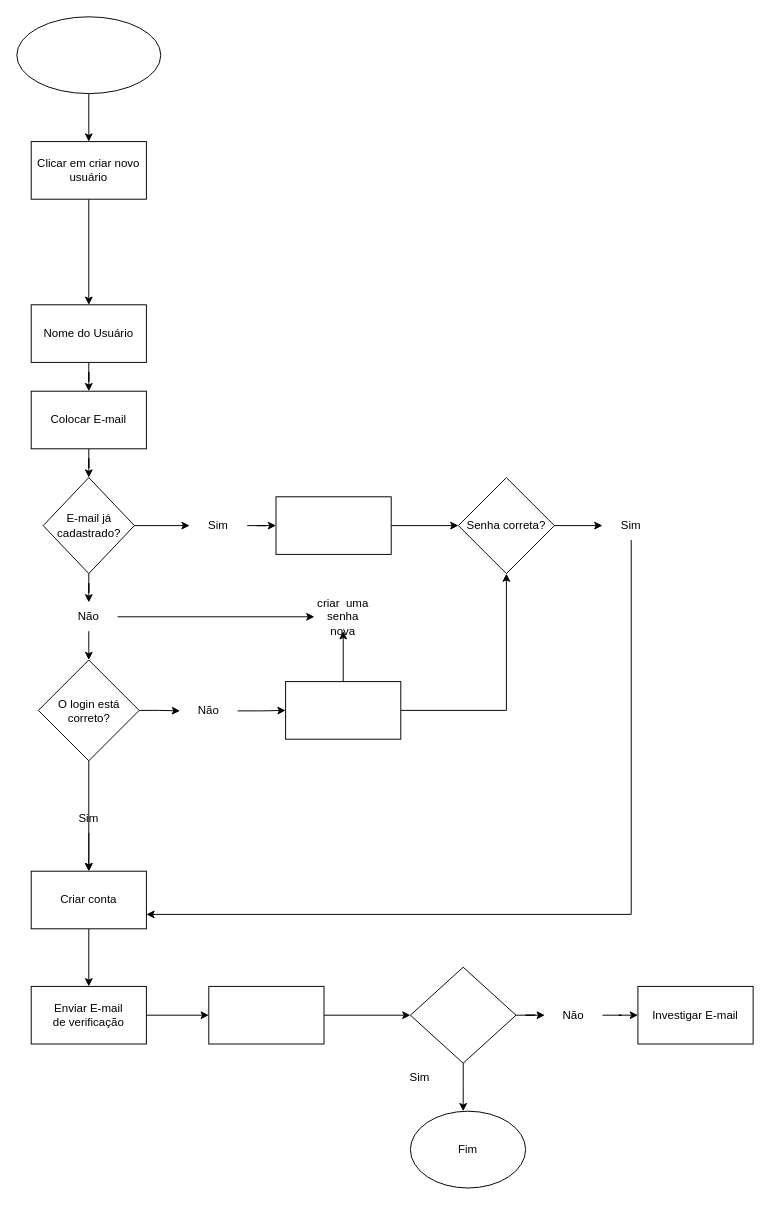
Some shapes in this 770 by 1205 pixel diagram are drawn without their labels. The shapes that lost their labels are listed below. From the top down, each one's centre as x and y in pixels, then its label:
At [88,55]: "Entrar no app".
At [333,525]: "Logar E-mail".
At [343,710]: "Esqueceu a Senha".
At [266,1014]: "Verificação de E-mail".
At [462,1014]: "Foi sucedido?".
